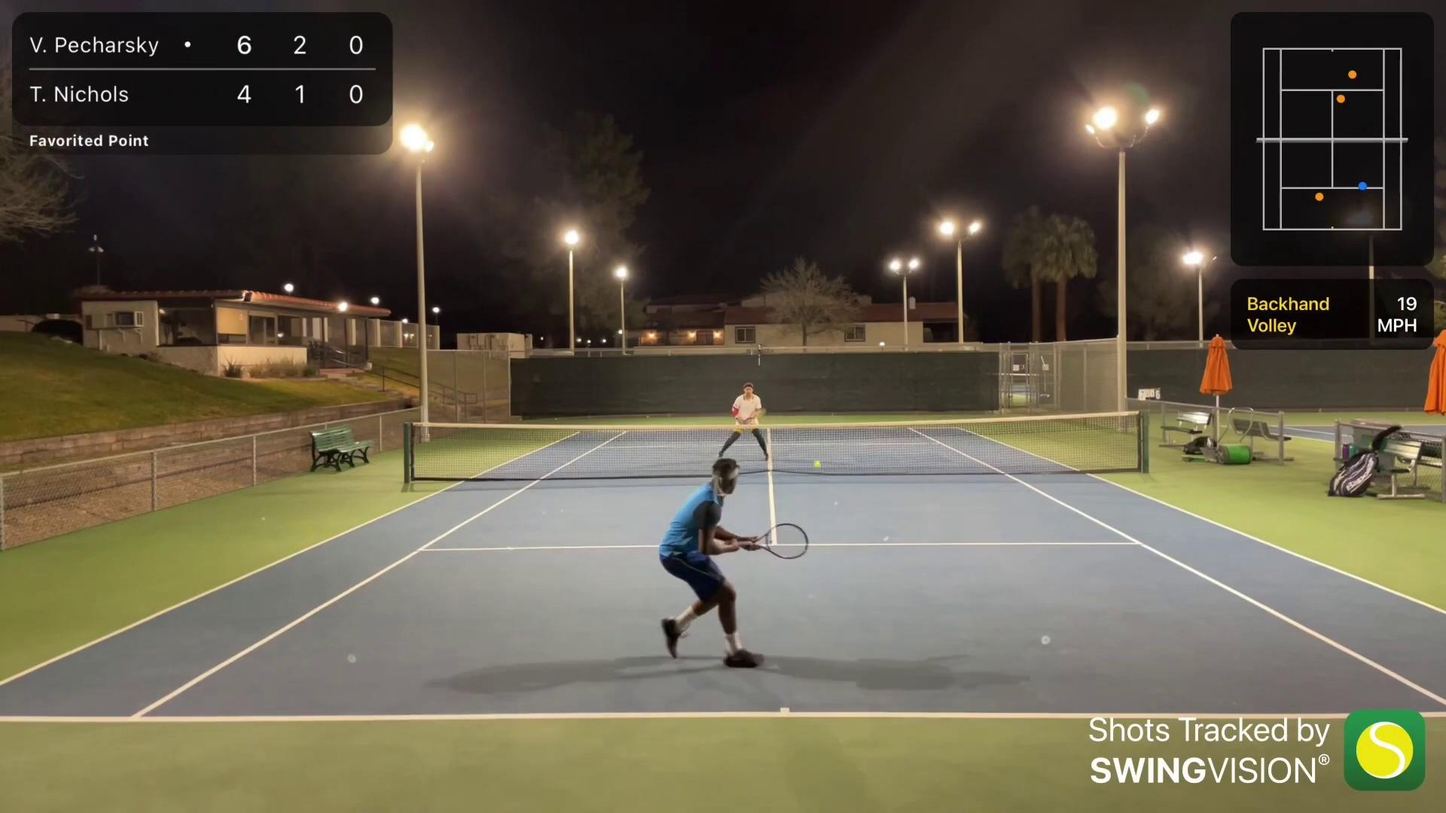ball: (810, 457, 825, 471)
